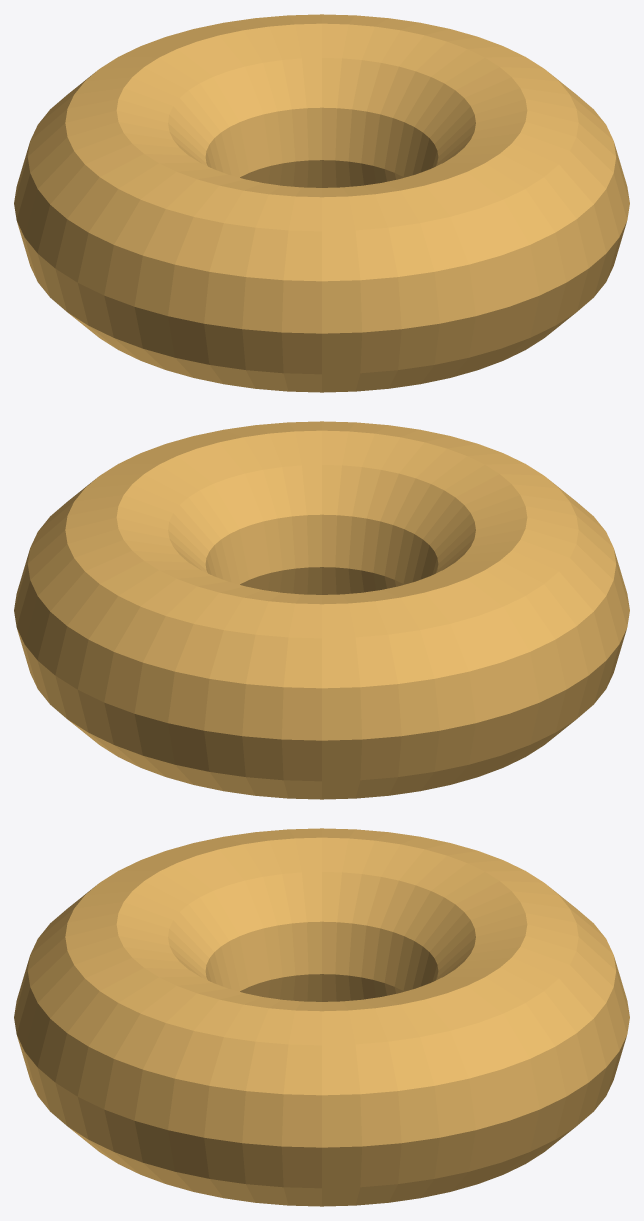
File: donut1.fbx
The picture shows the model from 3 angles, top to bottom: view 1: azimuth 30°, elevation 25°; view 2: azimuth 150°, elevation 25°; view 3: azimuth 270°, elevation 25°; orthographic projection.
Visible parts, largest first — view 1: Torus; view 2: Torus; view 3: Torus.
Part boxes in pixels (x1,y1,x2,y2): Torus: [14, 14, 629, 392]; Torus: [14, 421, 629, 799]; Torus: [14, 828, 629, 1206].
Size of the model in its own units: 1.5 by 0.5 by 1.5.
